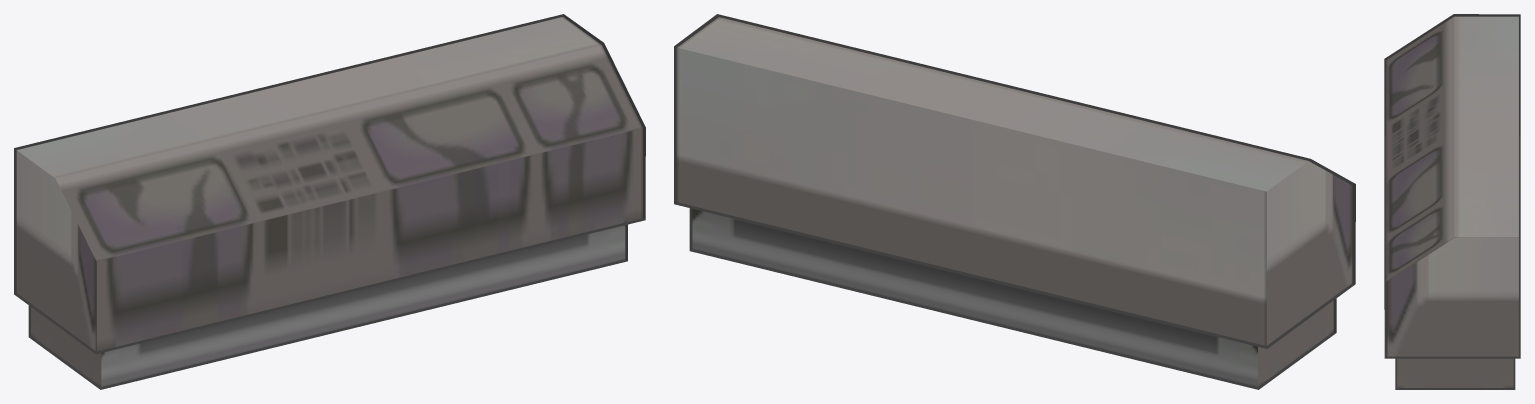
File: Building_AncientDestroyedConsoleLarge.glb
The picture shows the model from 3 angles, left to right: view 1: azimuth 30°, elevation 25°; view 2: azimuth 150°, elevation 25°; view 3: azimuth 270°, elevation 25°; orthographic projection. The views are drawn at different scales.
Visible parts, largest first — view 1: AncientDestroyedConsoleLarge, Outline; view 2: AncientDestroyedConsoleLarge, Outline; view 3: AncientDestroyedConsoleLarge, Outline.
Boxes of the visible parts, <box> form: AncientDestroyedConsoleLarge: <box>16,17,642,386</box>; Outline: <box>14,14,645,389</box>; AncientDestroyedConsoleLarge: <box>676,17,1352,386</box>; Outline: <box>674,14,1355,389</box>; AncientDestroyedConsoleLarge: <box>1386,16,1518,387</box>; Outline: <box>1384,14,1520,389</box>.
Bounding box in the file's own units: 2.94 × 0.9696 × 0.7591.
2 materials, 1 textured.
